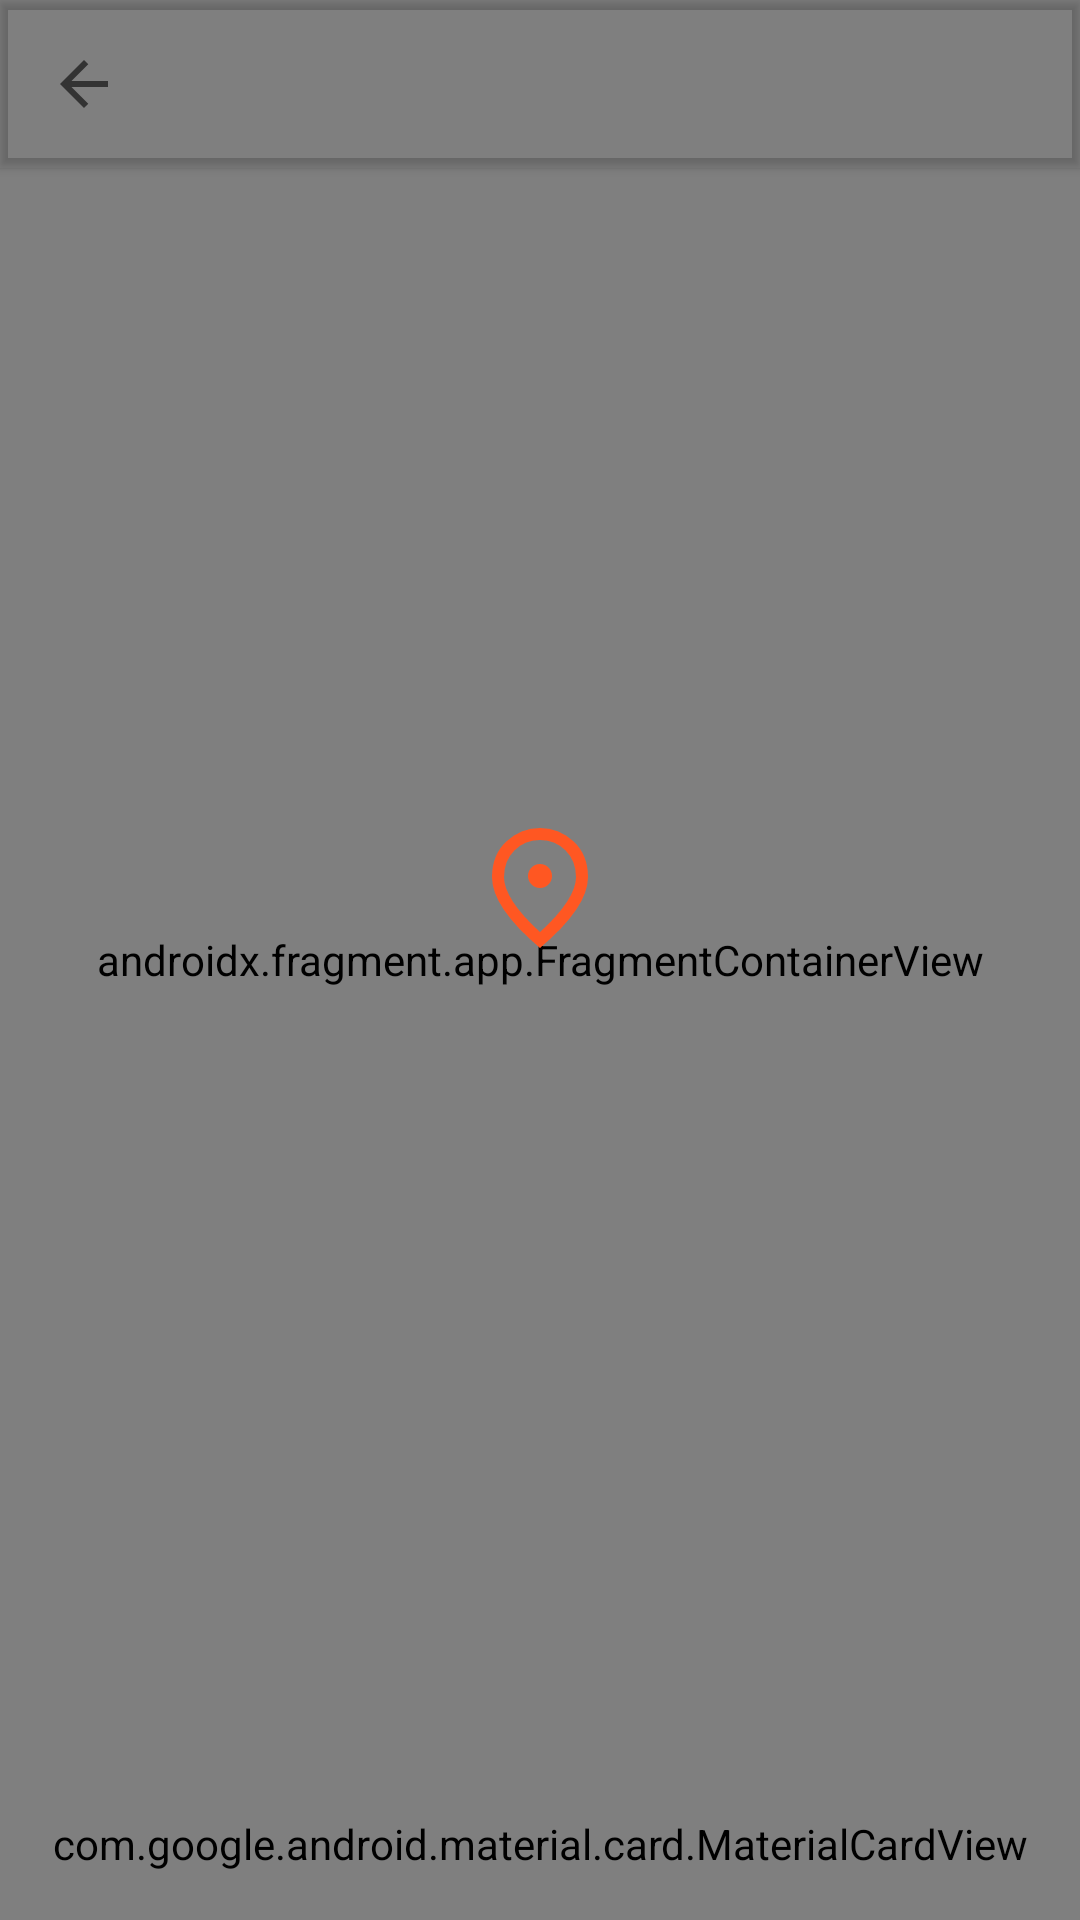

Named icons in this screenshot (1080×1920) and their centers, [x,y]:
location on: [540,894]
